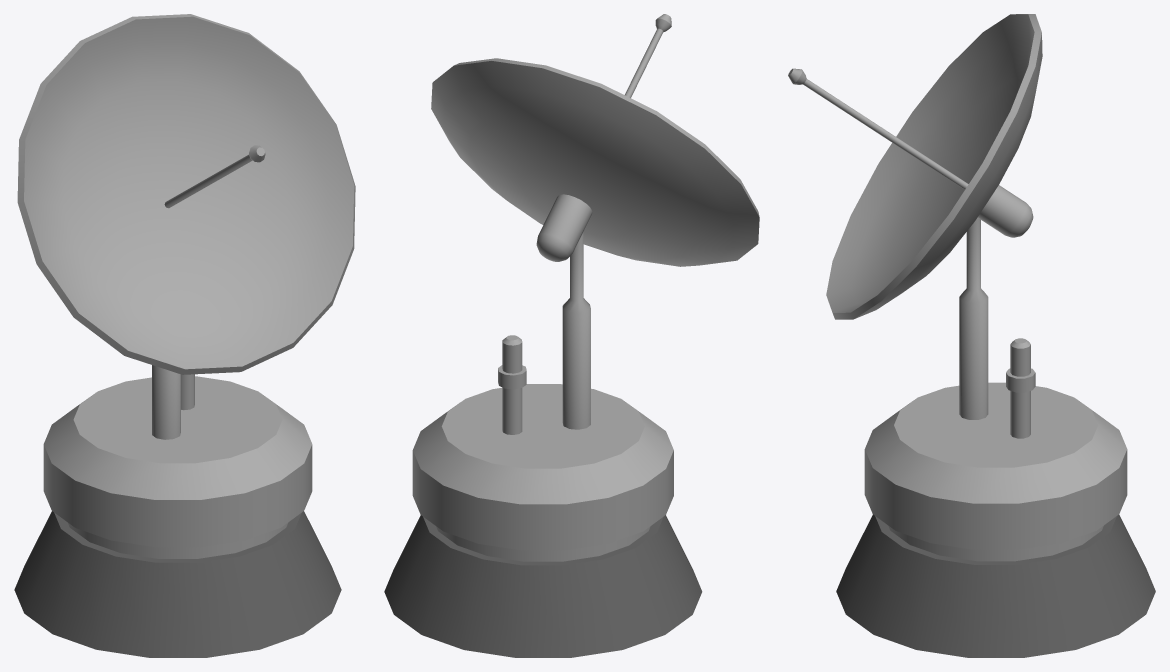
File: Roof Radar.glb
3 renders of one model, left to right at view 1: azimuth 30°, elevation 25°; view 2: azimuth 150°, elevation 25°; view 3: azimuth 270°, elevation 25°, orthographic. The views are drawn at different scales.
Visible parts, largest first — view 1: Roof_Radar; view 2: Roof_Radar; view 3: Roof_Radar.
Boxes of the visible parts, x1,y1,x2,y2 form: Roof_Radar: (14, 14, 355, 657); Roof_Radar: (384, 14, 759, 657); Roof_Radar: (788, 14, 1155, 657).
Size of the model in its own units: 1.63 by 2.71 by 1.65.
1 material, 1 textured.
